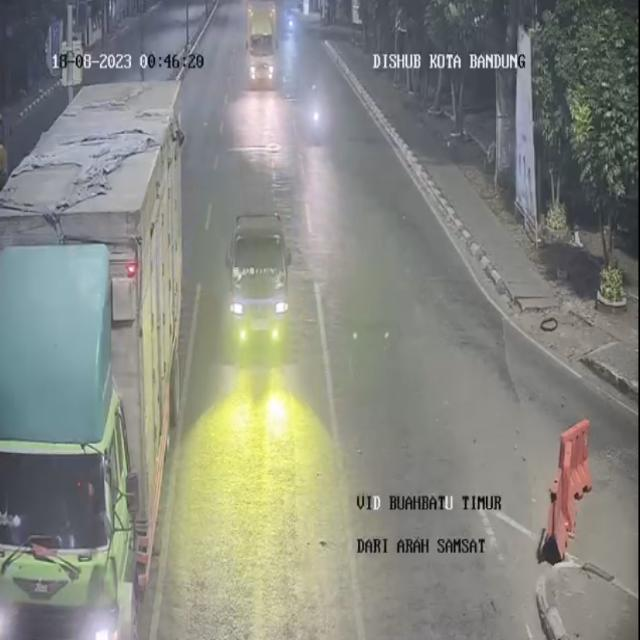cars: (220, 201, 296, 366)
motorcycle: (300, 80, 330, 150)
truck: (0, 81, 181, 639), (246, 4, 282, 93)
